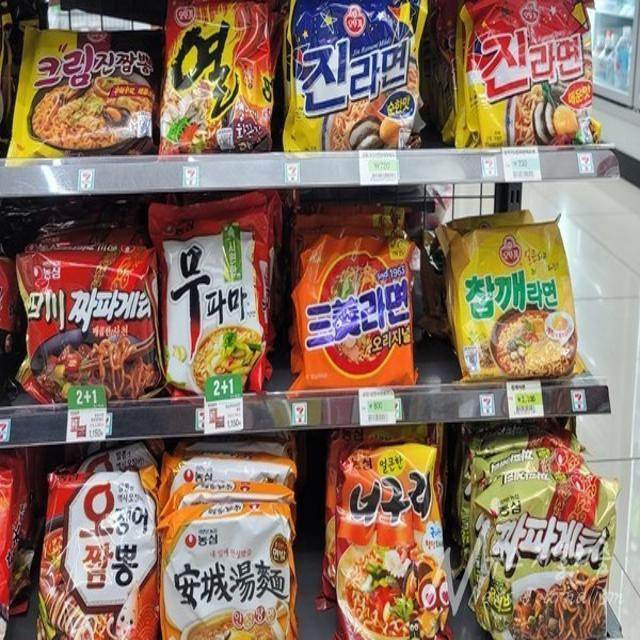product: (331, 450, 452, 638), (160, 197, 271, 399), (444, 222, 584, 374), (473, 486, 612, 638), (24, 244, 152, 406), (37, 473, 157, 638), (13, 30, 163, 160), (288, 4, 417, 149), (297, 233, 416, 386), (462, 5, 594, 142), (167, 4, 278, 154), (160, 519, 298, 639), (1, 475, 19, 639)
